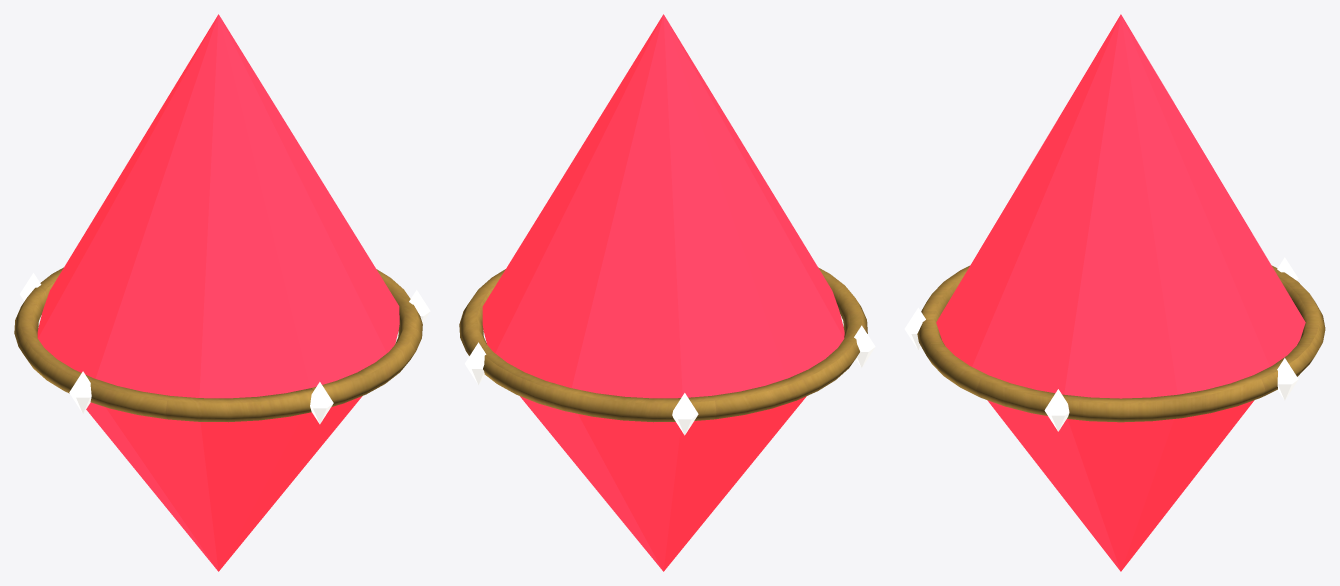
Rendered from lb_seal_0.glb.
The picture shows the model from 3 angles, left to right: view 1: azimuth 30°, elevation 25°; view 2: azimuth 150°, elevation 25°; view 3: azimuth 270°, elevation 25°; orthographic projection.
Parts seen in each view (by area): view 1: lb_seal_0; view 2: lb_seal_0; view 3: lb_seal_0.
Boxes of the visible parts, <box> form: lb_seal_0: <box>14,14,430,571</box>; lb_seal_0: <box>459,14,875,571</box>; lb_seal_0: <box>904,14,1325,571</box>.
Bounding box in the file's own units: 2.06 × 3.1 × 2.12.
Materials: 3 (1 with a texture image).
